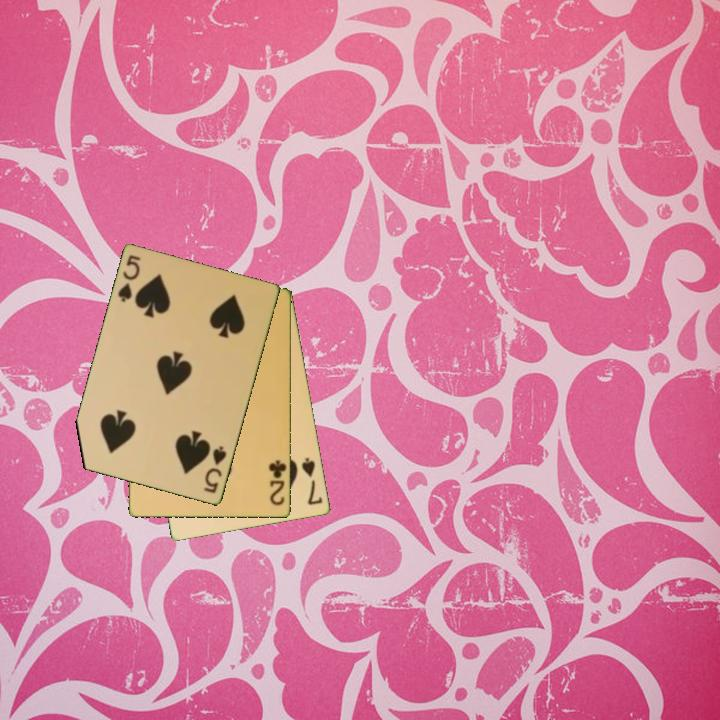2c: (266, 457, 289, 508)
5s: (114, 252, 144, 305), (201, 443, 230, 496)
7s: (298, 454, 326, 508)
